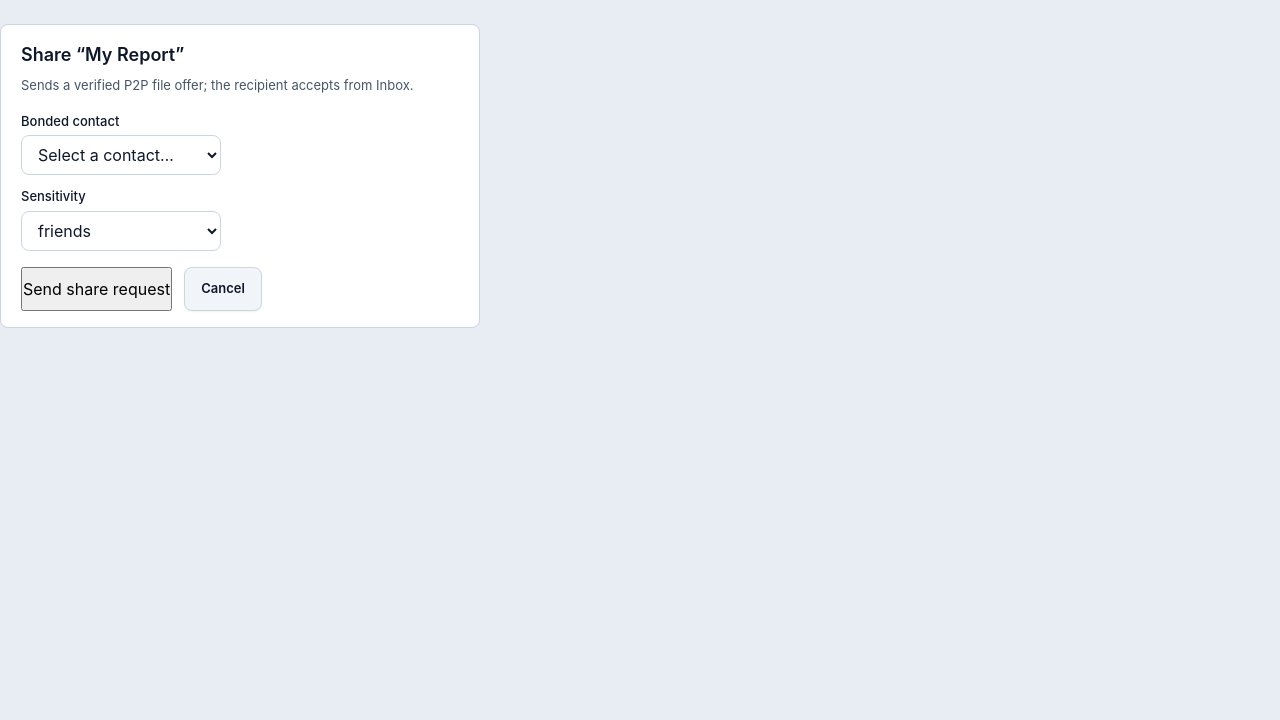
Test case: ShareFileDialog › shows error when shareFile fails
Check: the dialog is shown, box [0,24,480,328]
Step 1. Click the button "Send share request" → (97, 288), box [21,266,172,310]
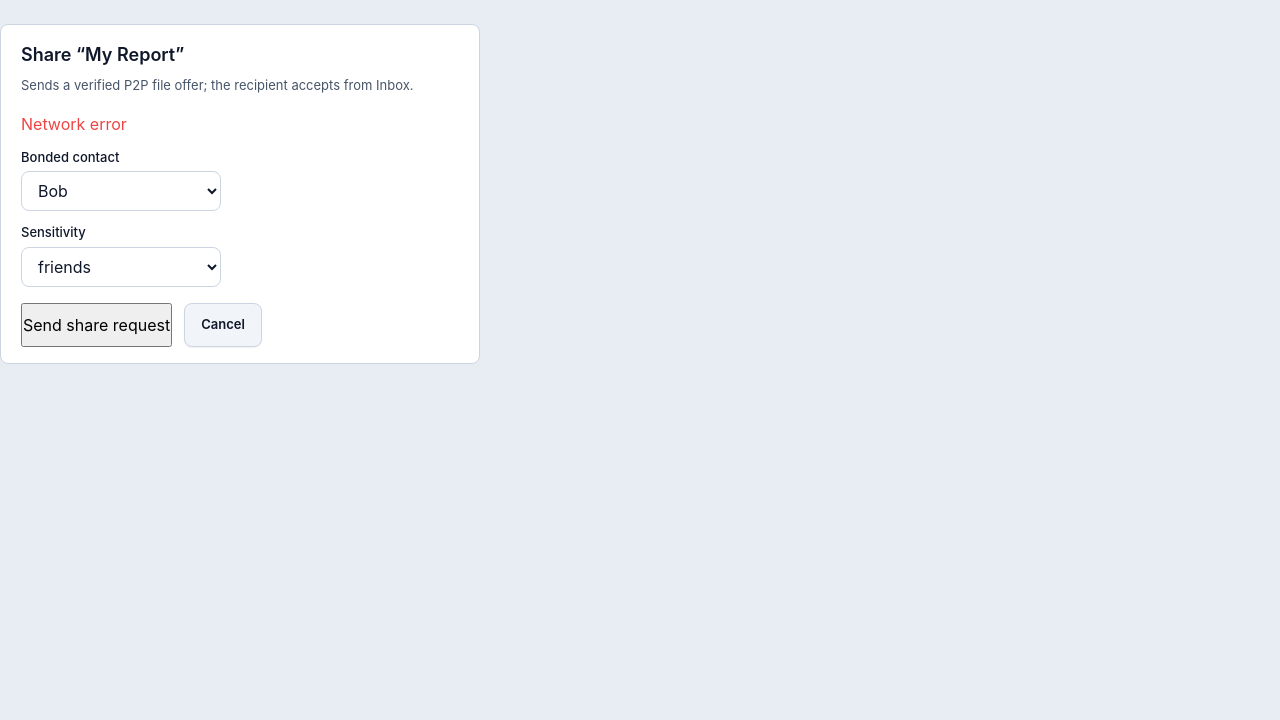
Check: the text "Network error" is shown, box [21,114,127,134]
